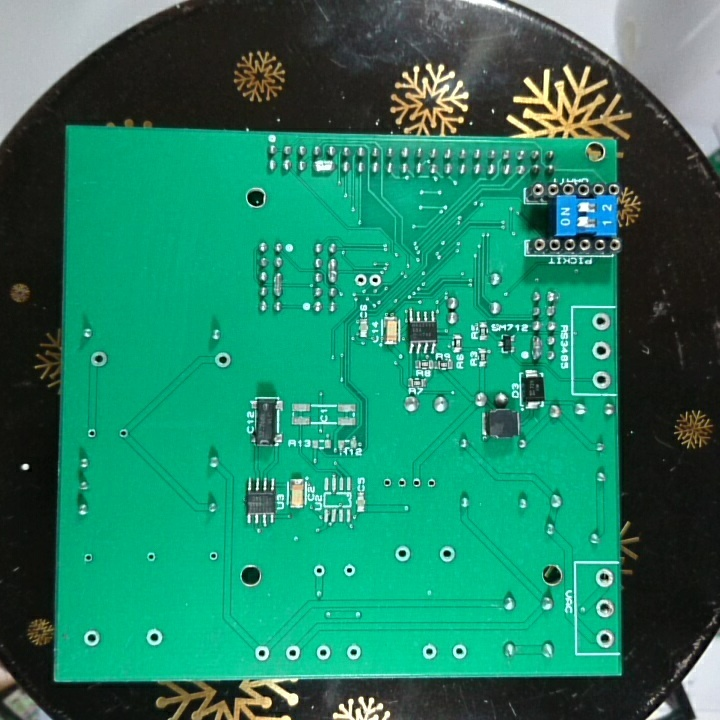F: (589, 338, 611, 363), (594, 596, 616, 621), (590, 311, 612, 335), (594, 566, 614, 591), (594, 627, 616, 649), (142, 627, 164, 649), (590, 368, 611, 391), (344, 642, 364, 665), (251, 643, 274, 663), (82, 627, 102, 650), (212, 349, 233, 370), (437, 543, 457, 565), (282, 643, 302, 664), (88, 349, 108, 370), (393, 543, 412, 565), (451, 640, 468, 664), (314, 643, 334, 663), (419, 640, 437, 661), (340, 562, 357, 580), (368, 270, 383, 290), (311, 562, 327, 580), (353, 270, 367, 289), (423, 475, 439, 491), (408, 475, 423, 492), (79, 552, 97, 566), (143, 549, 159, 564), (116, 426, 131, 442), (85, 426, 99, 442), (395, 475, 408, 492), (206, 549, 220, 563), (380, 476, 394, 489)
P: (310, 158, 337, 176), (325, 256, 339, 284), (271, 270, 285, 298), (530, 335, 542, 362)
